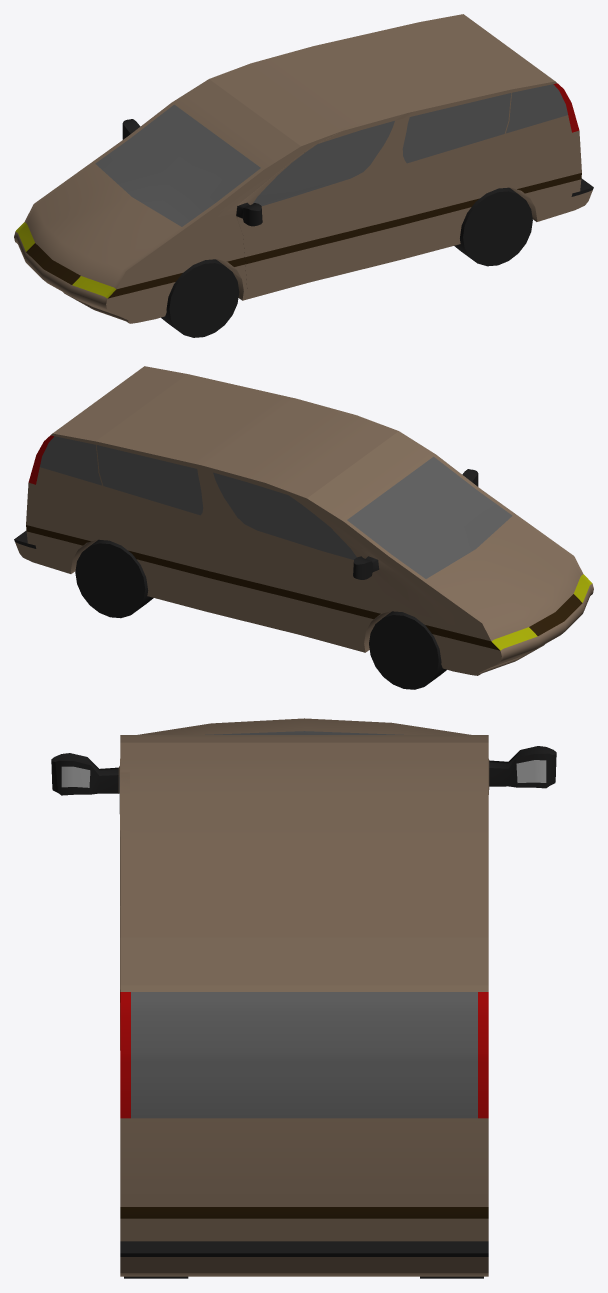
Rendered from MomVan.fbx.
The picture shows the model from 3 angles, top to bottom: view 1: azimuth 30°, elevation 25°; view 2: azimuth 150°, elevation 25°; view 3: azimuth 270°, elevation 25°; orthographic projection. The views are drawn at different scales.
Parts seen in each view (by area): view 1: pCylinder18, pCube10; view 2: pCylinder18; view 3: pCylinder18, pCube10.
Boxes of the visible parts, x1,y1,x2,y2 form: pCylinder18: (14, 14, 593, 337); pCube10: (236, 109, 414, 289); pCylinder18: (14, 366, 593, 689); pCylinder18: (120, 718, 556, 1278); pCube10: (51, 753, 129, 1050).
Bounding box in the file's own units: 122 × 40.34 × 52.68.
